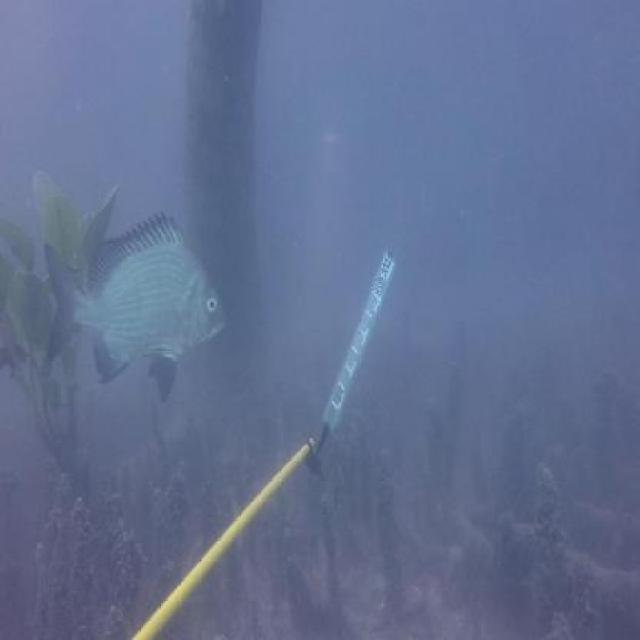acanthopagrus_palmaris: (39, 209, 230, 413)
